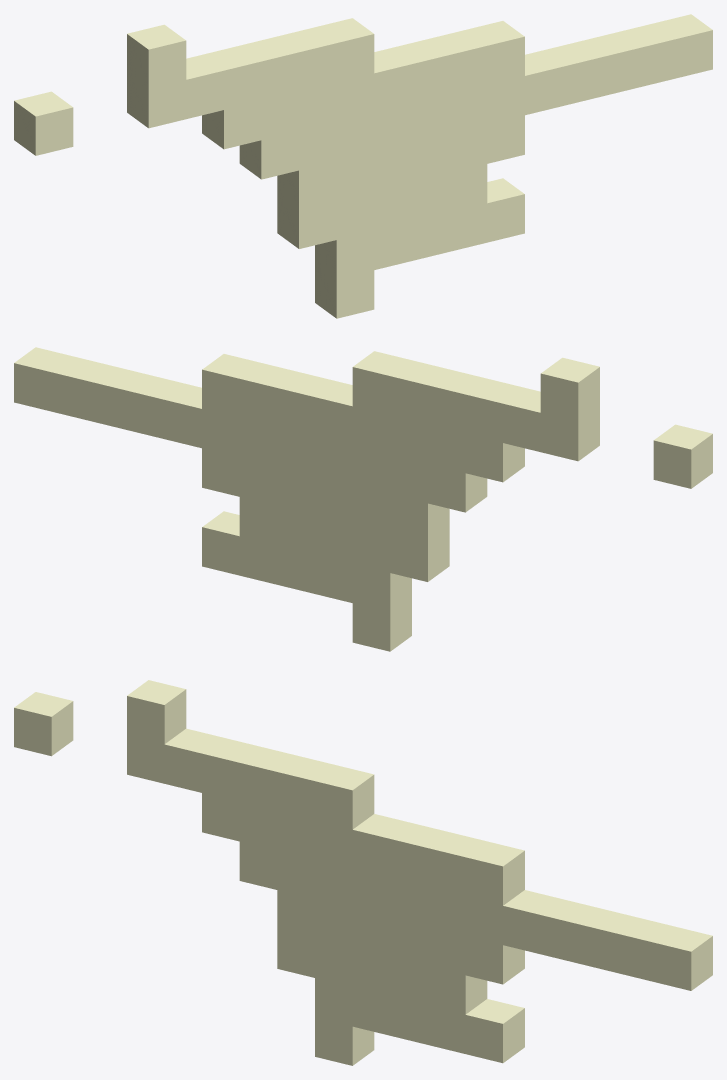
The model's file is Fight_010_2_14_fx.obj.
3 views of the same model, one above another, from view 1: azimuth 30°, elevation 25°; view 2: azimuth 150°, elevation 25°; view 3: azimuth 330°, elevation 25° (orthographic).
Bounding box in the file's own units: 1.8 × 0.8 × 0.1.
1 material, 1 textured.
